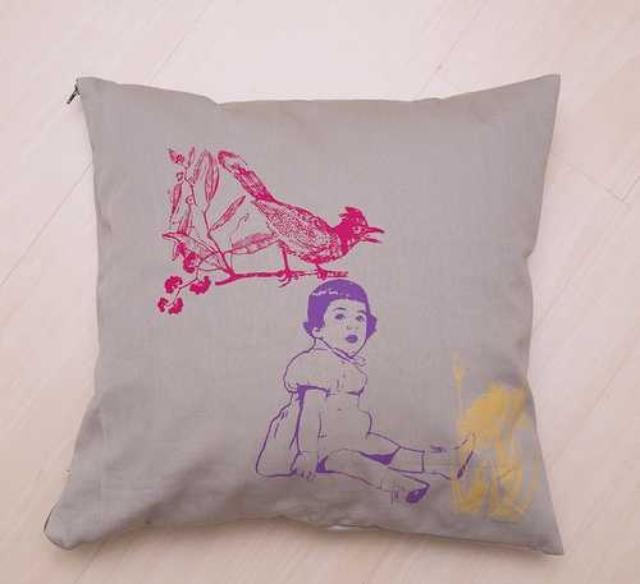pillow: (41, 71, 565, 557)
